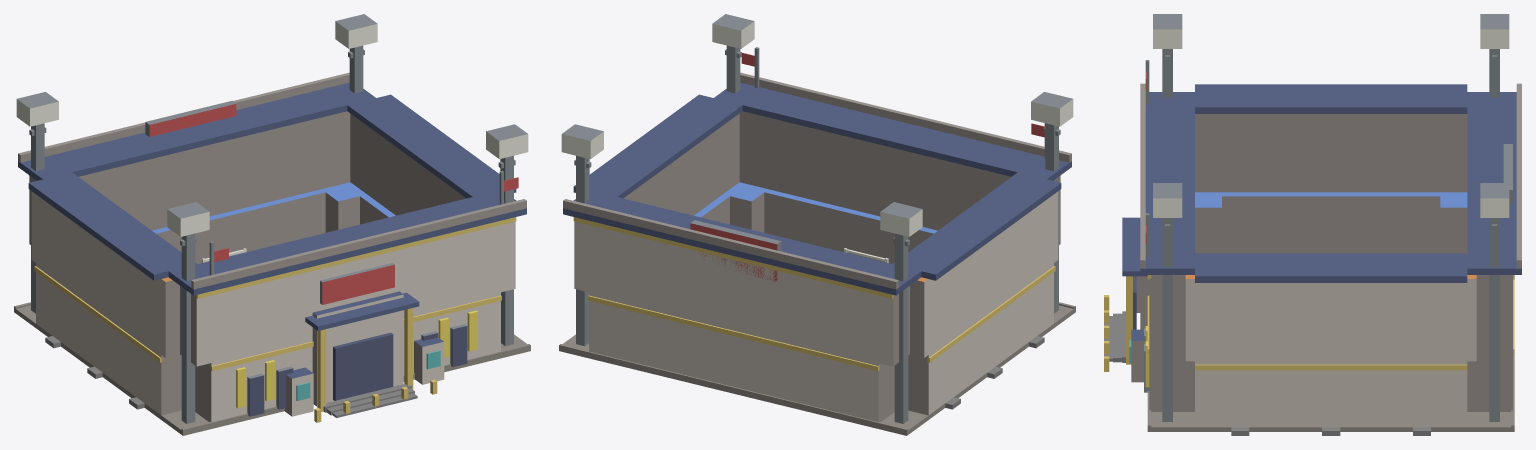
Rendered from Stadium.fbx.
3 renders of one model, left to right at view 1: azimuth 30°, elevation 25°; view 2: azimuth 150°, elevation 25°; view 3: azimuth 270°, elevation 25°, orthographic. The views are drawn at different scales.
Parts seen in each view (by area): view 1: Stadium; view 2: Stadium; view 3: Stadium.
Part boxes in pixels (x1=…): Stadium: x1=14, y1=14, x2=530, y2=435; Stadium: x1=559, y1=14, x2=1075, y2=435; Stadium: x1=1104, y1=14, x2=1521, y2=435.
Size of the model in its own units: 2500 by 1420 by 2300.
